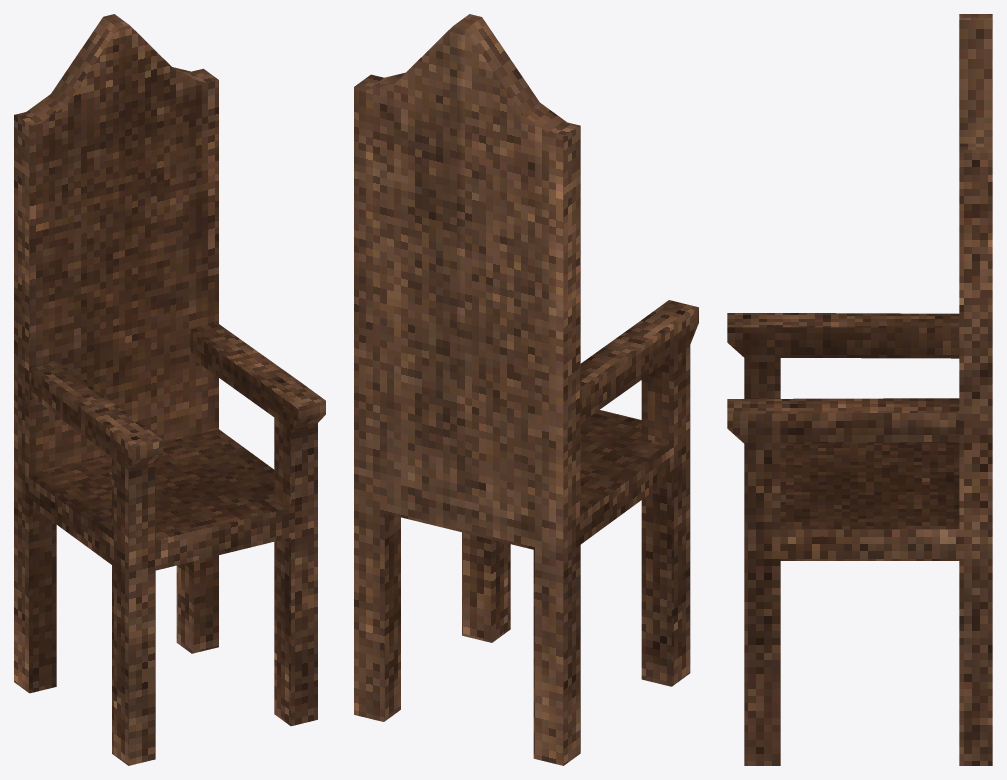
File: Chair_2.gltf
3 renders of one model, left to right at view 1: azimuth 30°, elevation 25°; view 2: azimuth 150°, elevation 25°; view 3: azimuth 270°, elevation 25°, orthographic. The views are drawn at different scales.
Parts seen in each view (by area): view 1: Chair_2; view 2: Chair_2; view 3: Chair_2.
Boxes of the visible parts, <box> form: Chair_2: <box>14,14,325,765</box>; Chair_2: <box>354,14,698,765</box>; Chair_2: <box>727,14,992,765</box>.
Size of the model in its own units: 2 by 6.5 by 2.24.
1 material, 1 textured.
